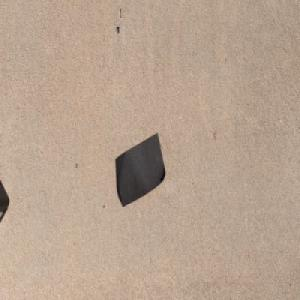PaintChip: (115, 131, 166, 207)
